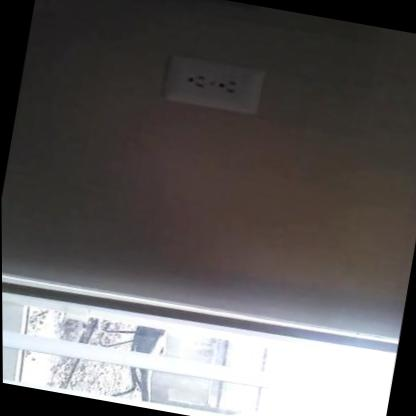OUTLET: (161, 53, 266, 116)
